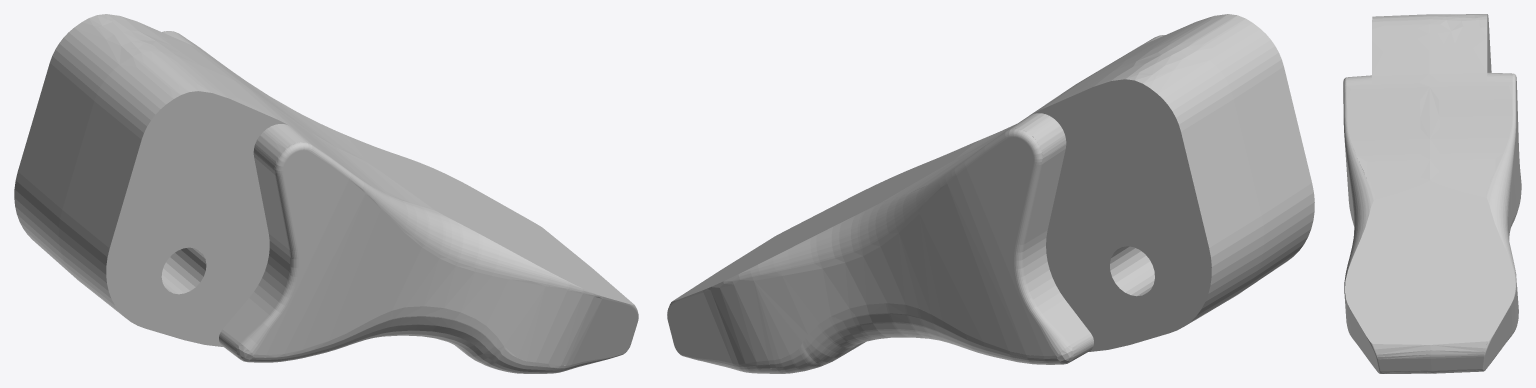
File: finger_distal_limb_1.dae
3 renders of one model, left to right at view 1: azimuth 30°, elevation 25°; view 2: azimuth 150°, elevation 25°; view 3: azimuth 270°, elevation 25°, orthographic. The views are drawn at different scales.
Visible parts, largest first — view 1: node0; view 2: node0; view 3: node0.
Boxes of the visible parts, x1,y1,x2,y2 form: node0: (14, 14, 638, 373); node0: (667, 14, 1314, 373); node0: (1343, 14, 1521, 373).
Bounding box in the file's own units: 0.0485 × 0.0329 × 0.0232.
1 material, 1 textured.
